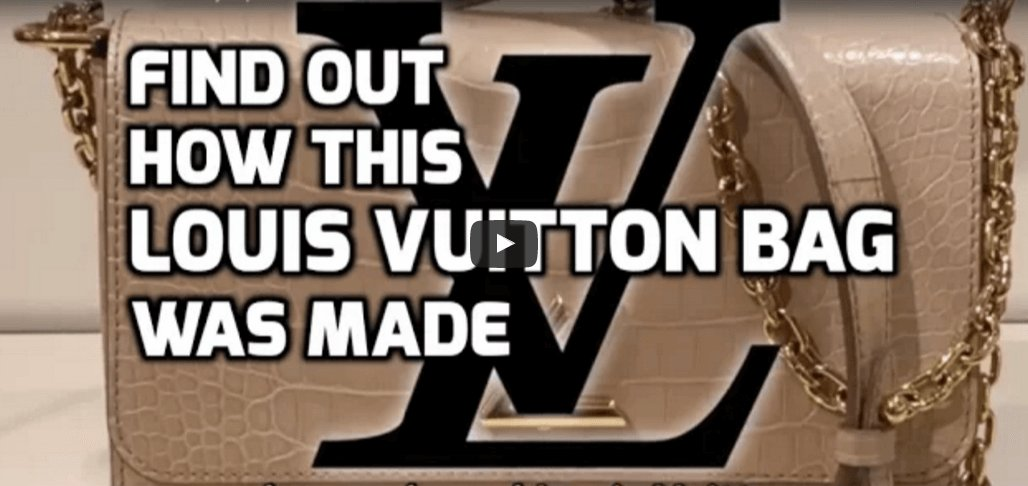LOUIS-VUITTON: (288, 4, 784, 474)
